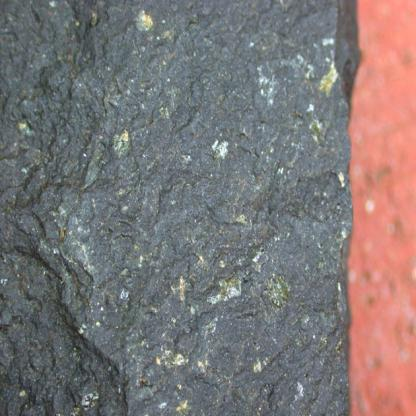Igneous_Basalt: (0, 5, 361, 415)
